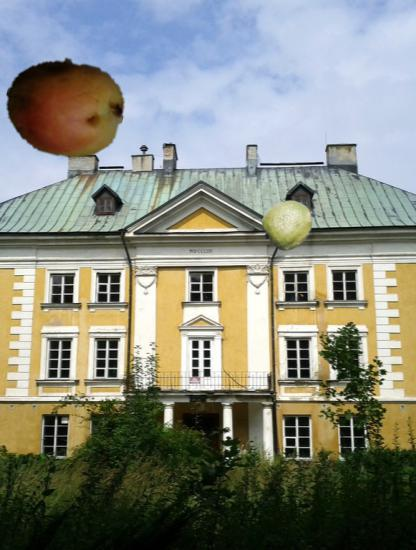Limes: (262, 198, 316, 252)
Papaya: (5, 48, 124, 167)
